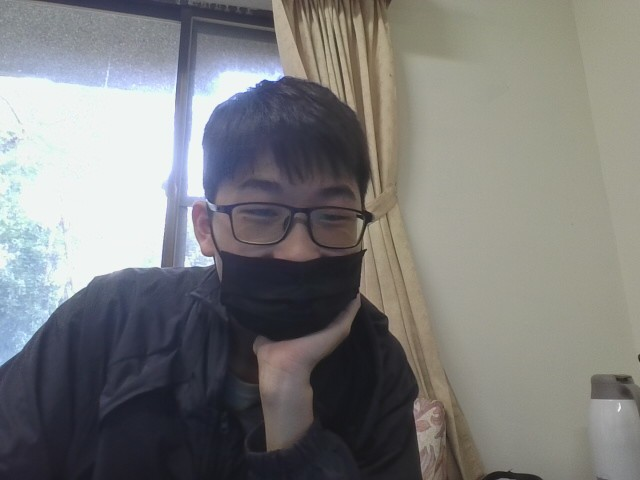No_Helmet: (195, 72, 378, 262)
person: (0, 59, 491, 479)
